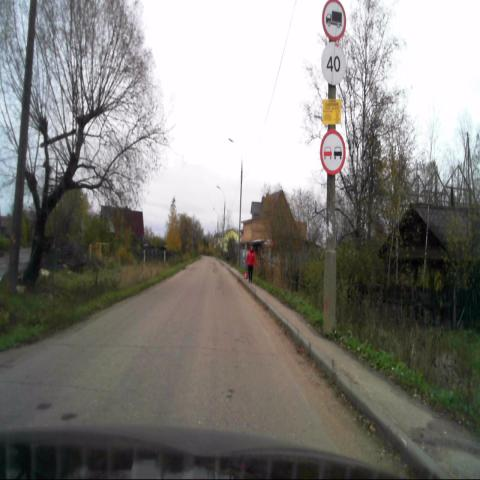3_4_1: (321, 0, 348, 40)
